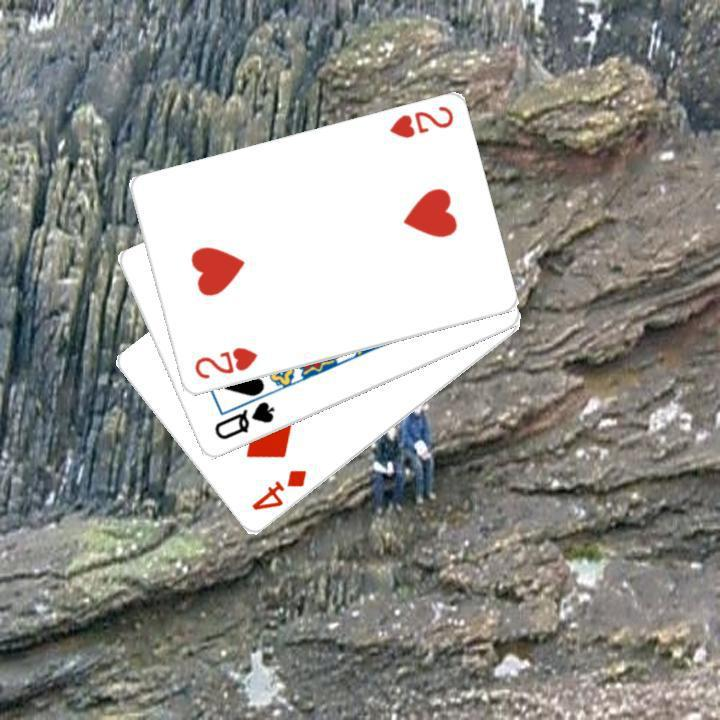2: (189, 343, 260, 382), (384, 102, 455, 141)
4: (247, 465, 309, 514)
Q: (209, 397, 277, 442)
